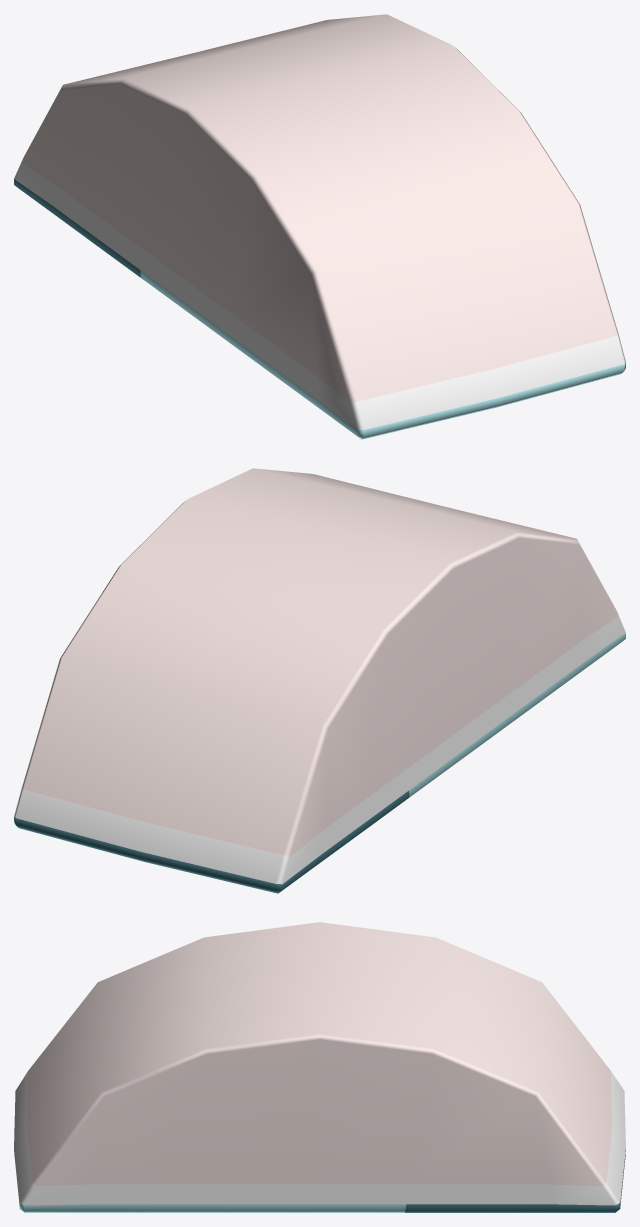
The model's file is SeaBass_1_Fillet_3.fbx.
The picture shows the model from 3 angles, top to bottom: view 1: azimuth 30°, elevation 25°; view 2: azimuth 150°, elevation 25°; view 3: azimuth 270°, elevation 25°; orthographic projection. The views are drawn at different scales.
Parts seen in each view (by area): view 1: SeaBass_1_Fillet_3; view 2: SeaBass_1_Fillet_3; view 3: SeaBass_1_Fillet_3.
Boxes of the visible parts, left/top/right/bottom form: SeaBass_1_Fillet_3: left=14, top=14, right=625, bottom=439; SeaBass_1_Fillet_3: left=14, top=468, right=625, bottom=893; SeaBass_1_Fillet_3: left=14, top=922, right=625, bottom=1212.
Bounding box in the file's own units: 14.2 × 10.27 × 31.8.
